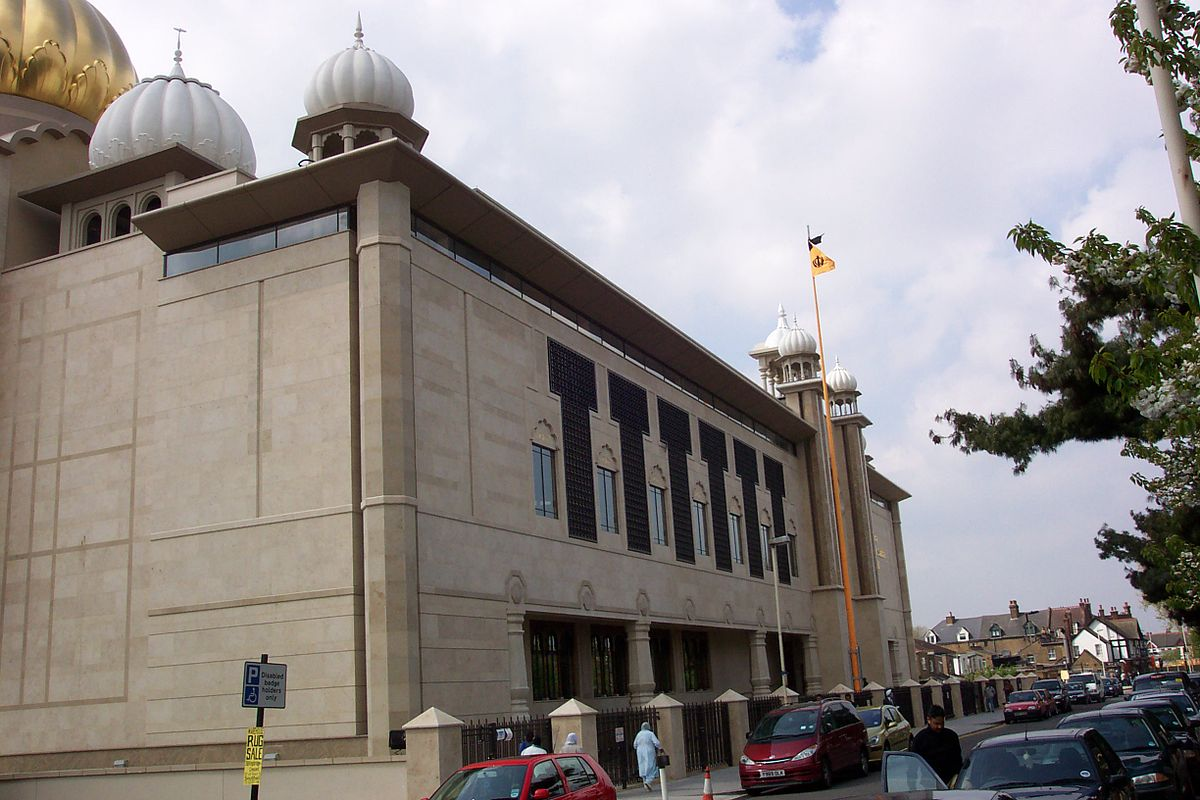Gurdwara: (5, 17, 916, 718)
